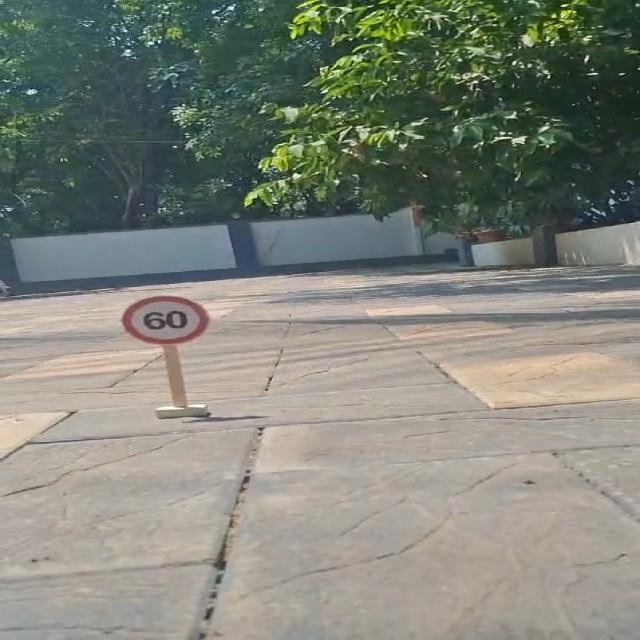Speed60: (105, 289, 223, 350)
